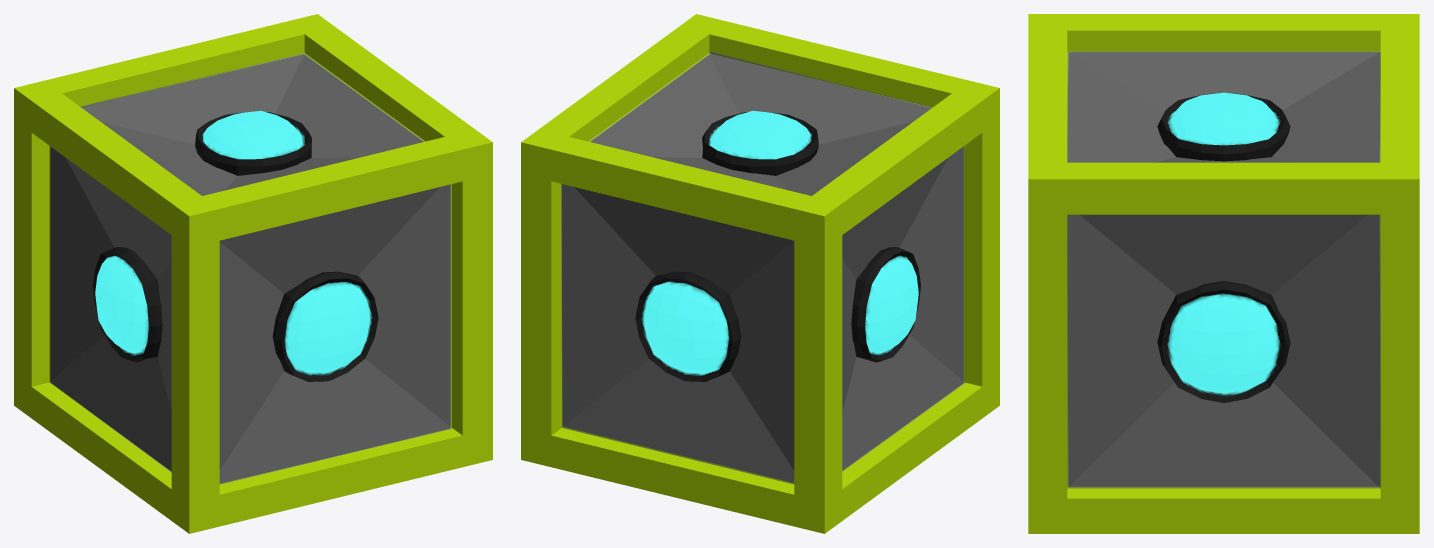
Rendered from CaixaItens.fbx.
3 renders of one model, left to right at view 1: azimuth 30°, elevation 25°; view 2: azimuth 150°, elevation 25°; view 3: azimuth 270°, elevation 25°, orthographic. The views are drawn at different scales.
Visible parts, largest first — view 1: CaixaItens; view 2: CaixaItens; view 3: CaixaItens.
Part boxes in pixels (box(x1,y1,x2,y2)): CaixaItens: box(14, 14, 492, 533); CaixaItens: box(521, 14, 999, 533); CaixaItens: box(1028, 14, 1419, 533).
Size of the model in its own units: 100 by 100 by 100.
